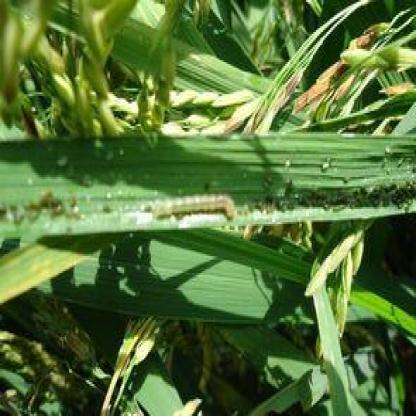leaf-folder: (140, 174, 247, 235)
